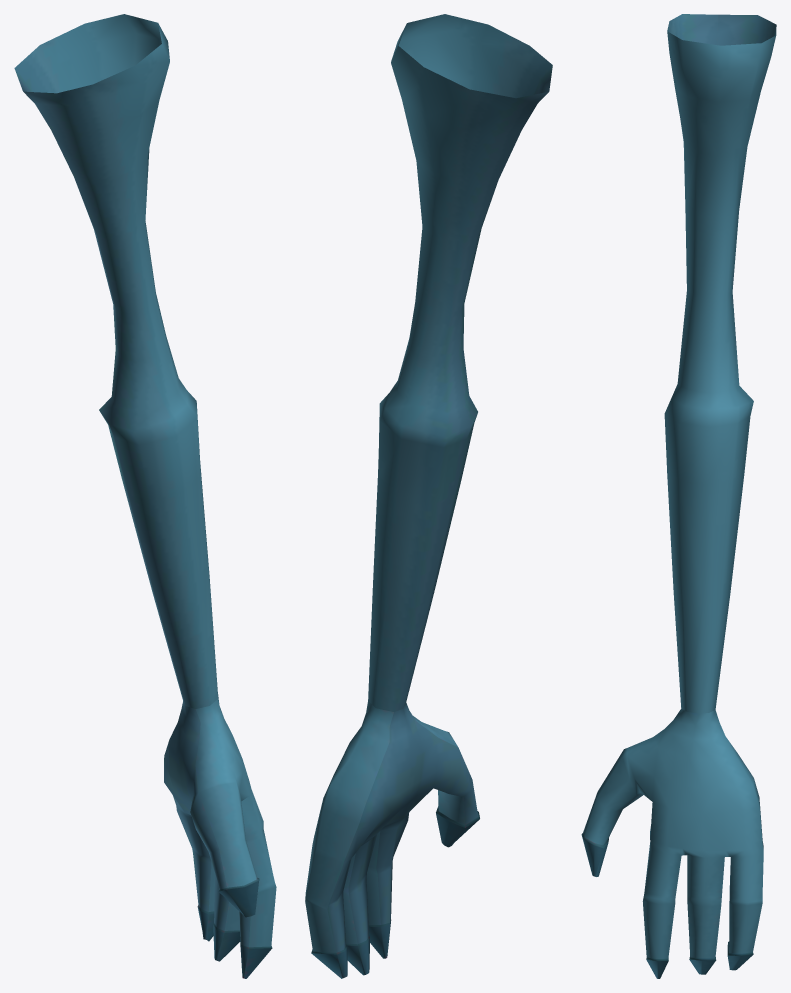
The model's file is PanicoBIzq.obj.
The picture shows the model from 3 angles, left to right: view 1: azimuth 30°, elevation 25°; view 2: azimuth 150°, elevation 25°; view 3: azimuth 270°, elevation 25°; orthographic projection. The views are drawn at different scales.
Visible parts, largest first — view 1: Brazo_izquierdo; view 2: Brazo_izquierdo; view 3: Brazo_izquierdo.
Boxes of the visible parts, x1,y1,x2,y2 form: Brazo_izquierdo: (14,14,276,978); Brazo_izquierdo: (305,14,552,978); Brazo_izquierdo: (581,14,776,978).
Size of the model in its own units: 0.9367 by 3.82 by 0.7436.
